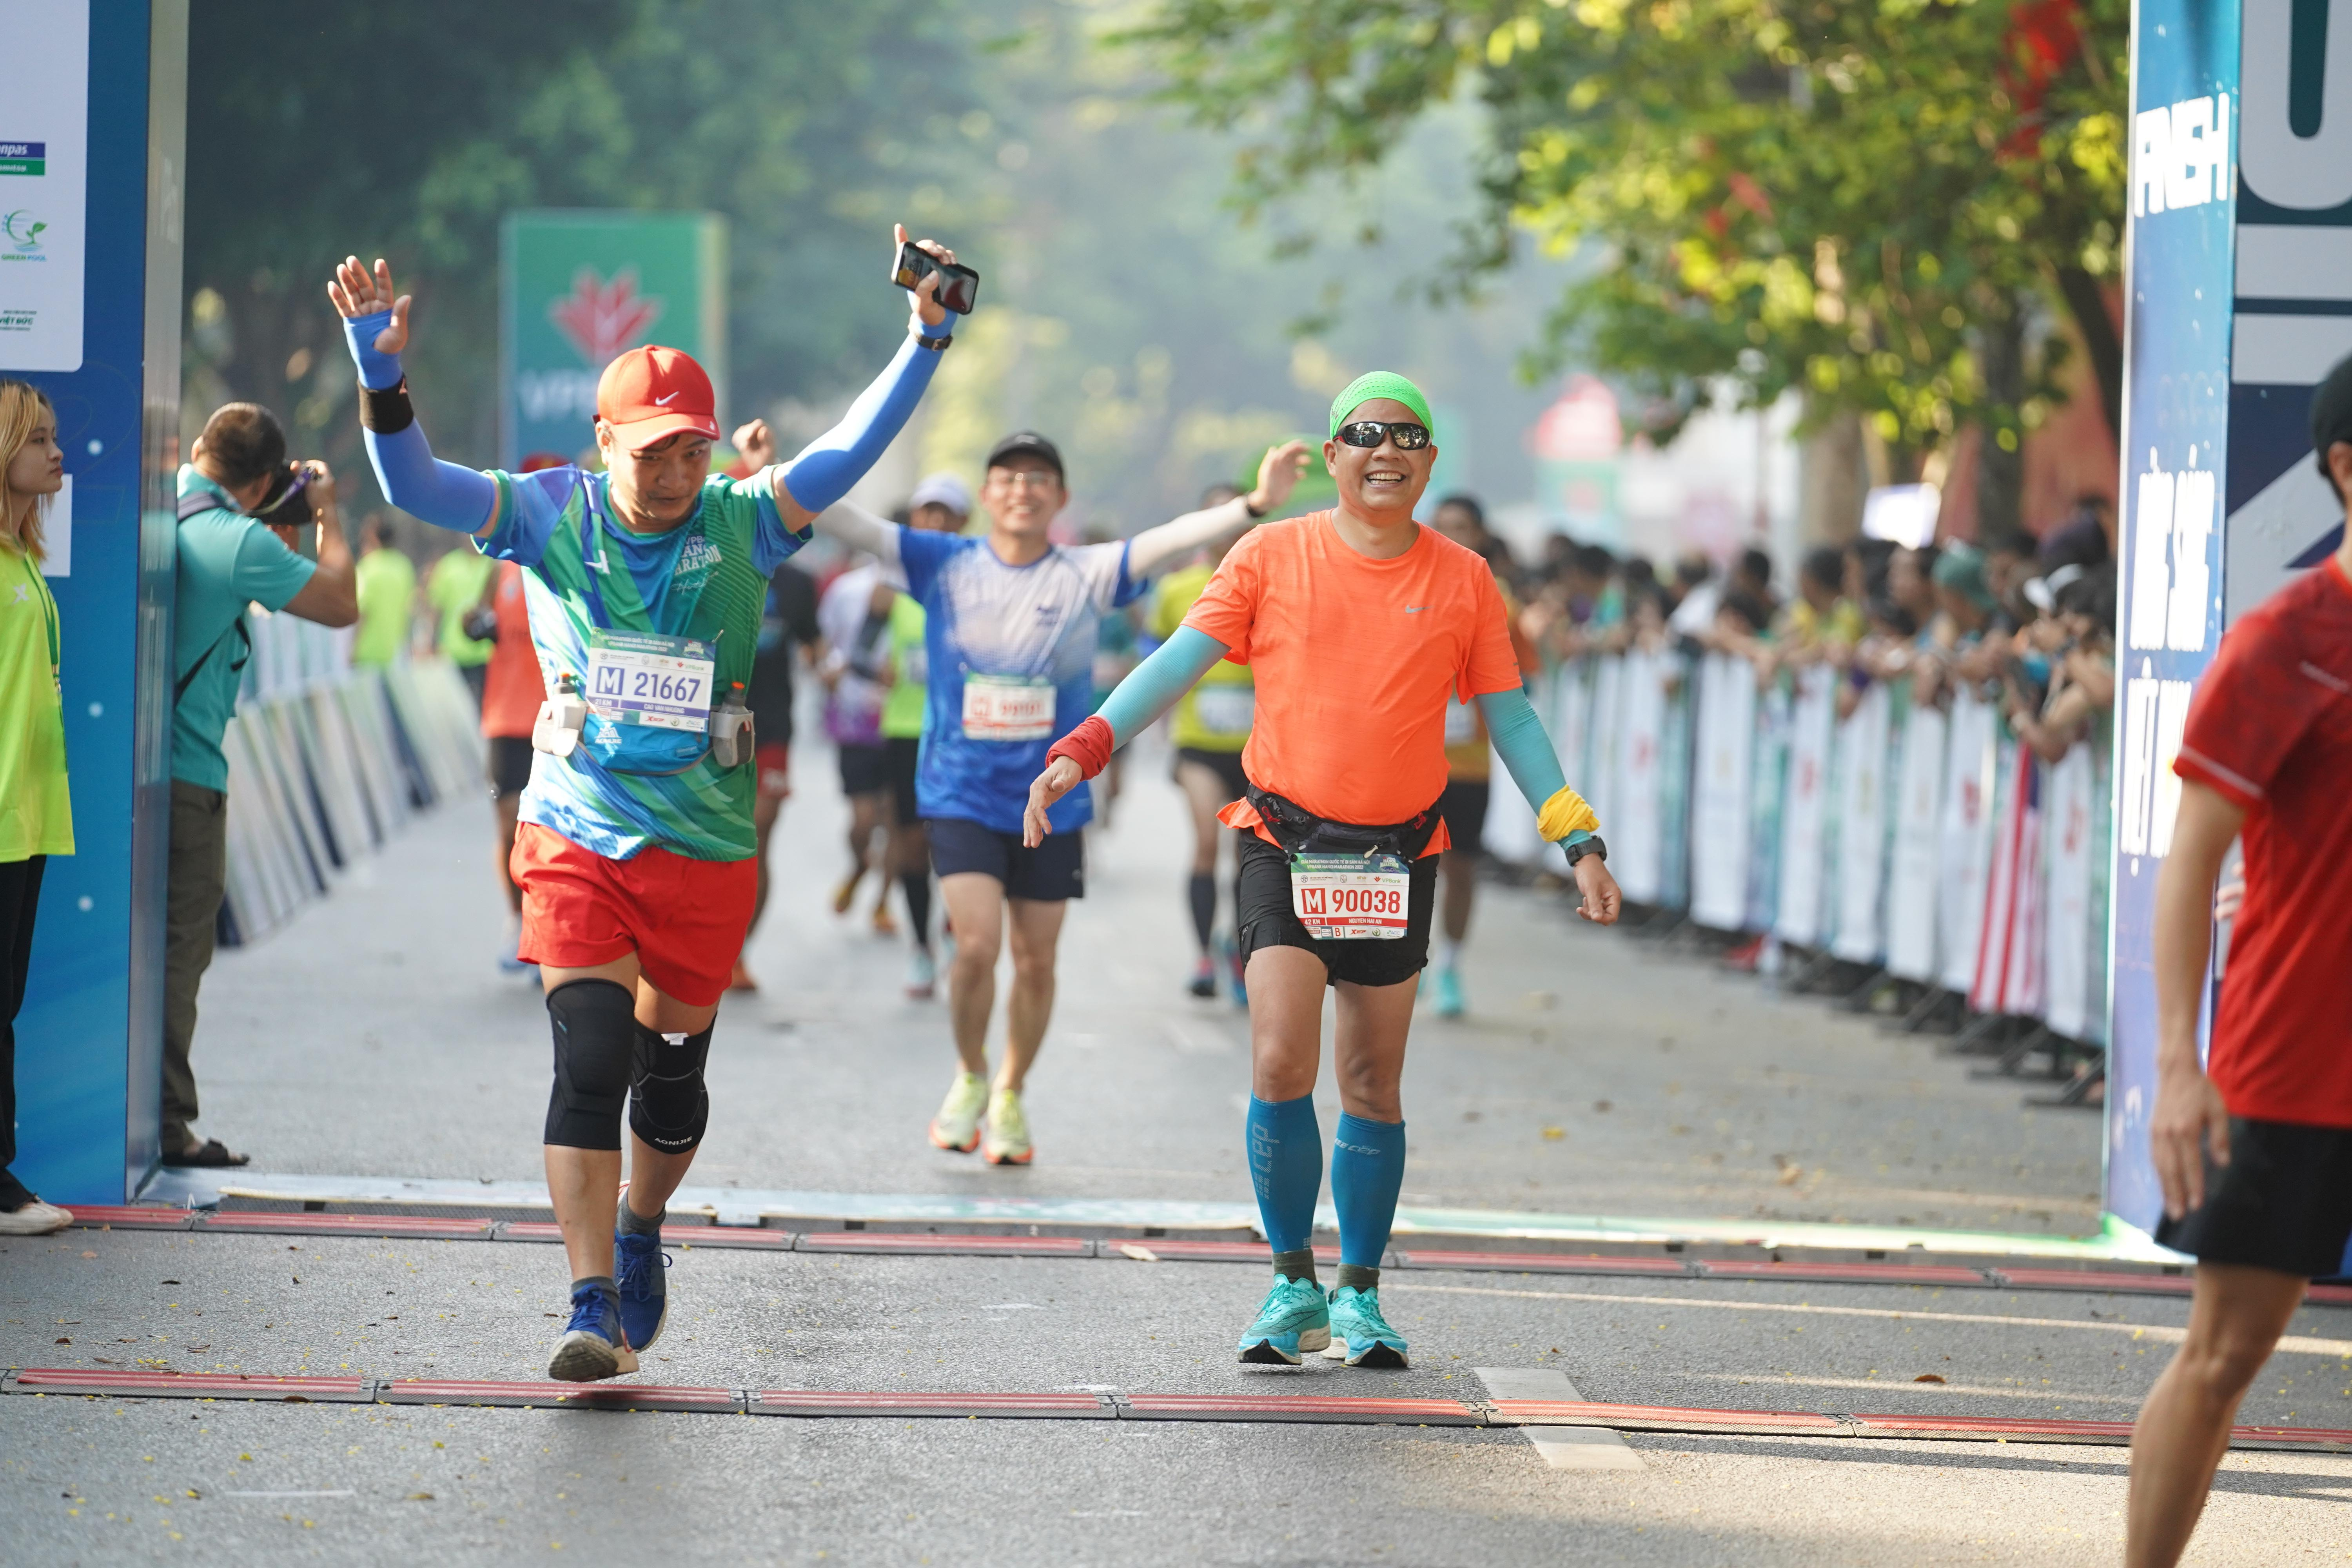bib: (585, 625, 716, 735), (1283, 845, 1410, 945), (961, 670, 1055, 744)
